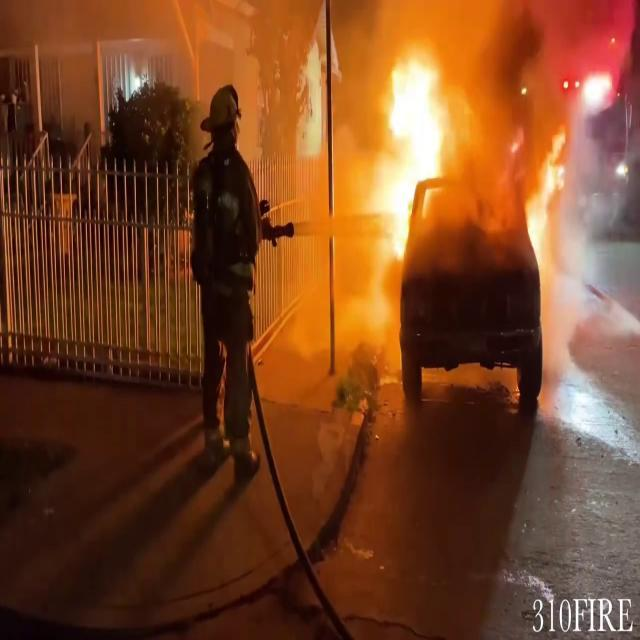Fire: (350, 42, 480, 248), (520, 122, 574, 274)
Smoke: (436, 0, 640, 254)
